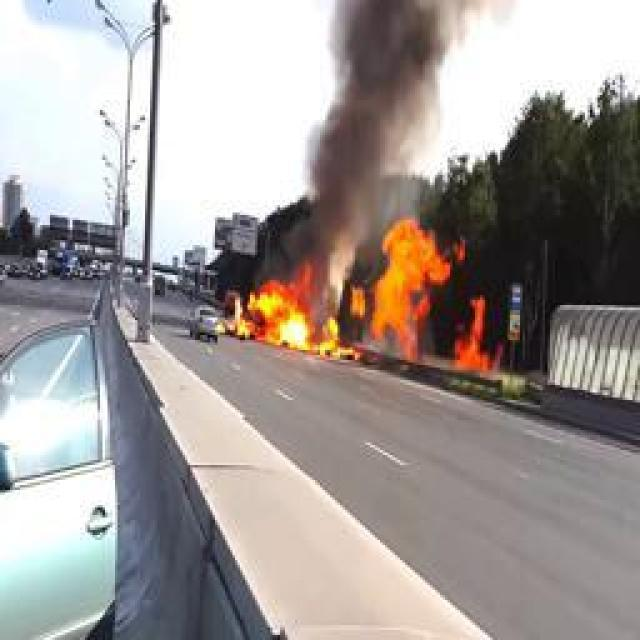Fire: (228, 264, 360, 364), (368, 212, 452, 360), (454, 298, 498, 374)
